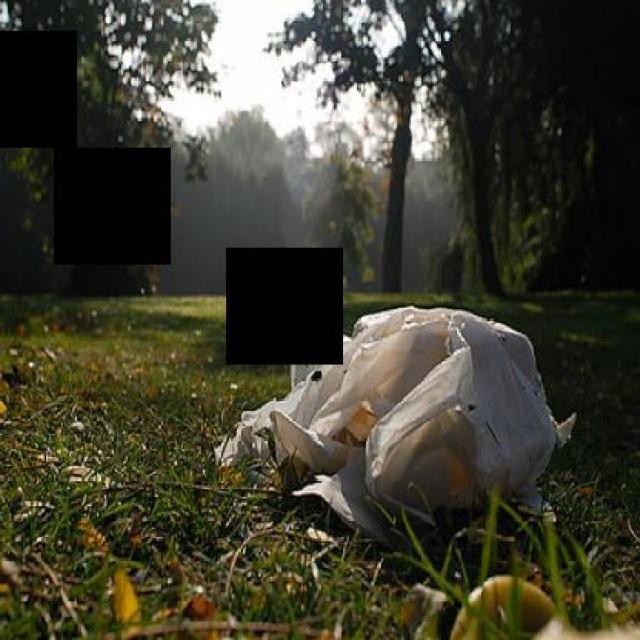plastic bag: (211, 302, 574, 552)
